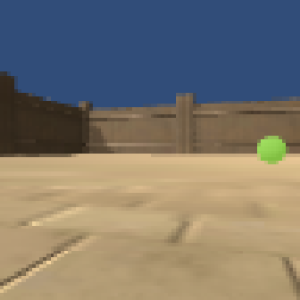goodGoal: (254, 132, 288, 166)
